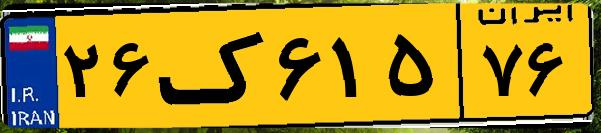1: (330, 28, 385, 110)
2: (57, 26, 110, 100)
5: (385, 28, 445, 110)
6: (270, 28, 330, 110), (525, 38, 570, 115), (110, 28, 158, 98)
7: (475, 38, 525, 113)
ک: (158, 12, 270, 120)
